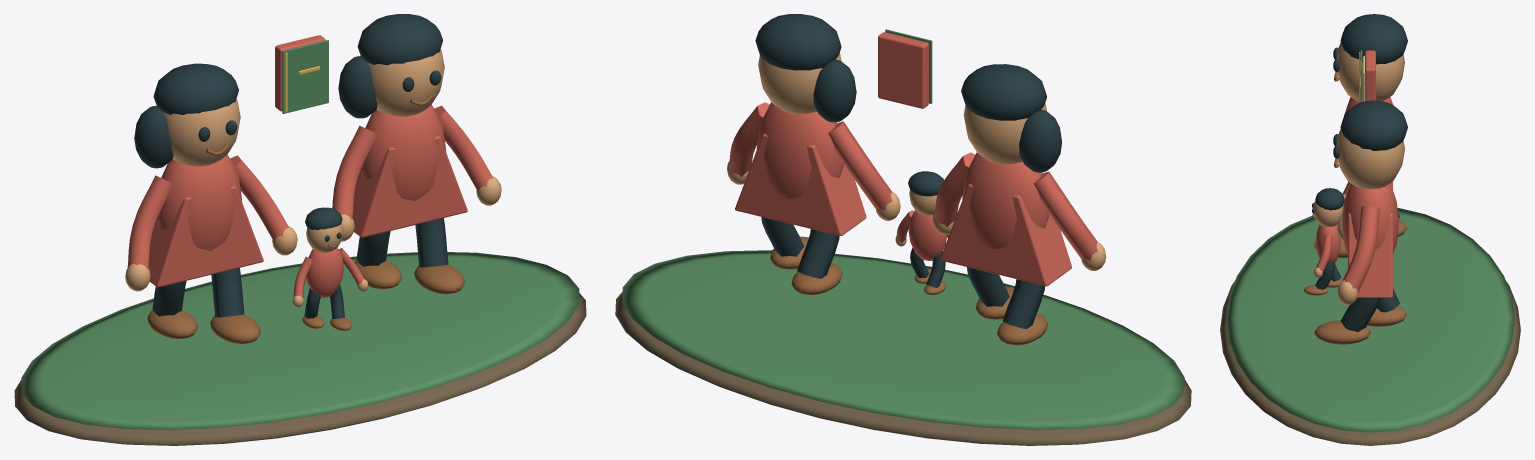
Rendered from older-sisters.glb.
3 views of the same model, side by side, from view 1: azimuth 30°, elevation 25°; view 2: azimuth 150°, elevation 25°; view 3: azimuth 270°, elevation 25° (orthographic). The views are drawn at different scales.
Parts seen in each view (by area): view 1: older-sisters_surface_01, older-sisters_surface_05, older-sisters_surface_03, older-sisters_surface_00, older-sisters_surface_02, older-sisters_surface_04; view 2: older-sisters_surface_01, older-sisters_surface_05, older-sisters_surface_03, older-sisters_surface_00, older-sisters_surface_02, older-sisters_surface_04; view 3: older-sisters_surface_01, older-sisters_surface_03, older-sisters_surface_05, older-sisters_surface_00, older-sisters_surface_02, older-sisters_surface_04.
Part boxes in pixels (x1=…): older-sisters_surface_01: x1=21, y1=40, x2=579, y2=429; older-sisters_surface_05: x1=127, y1=35, x2=493, y2=297; older-sisters_surface_03: x1=134, y1=14, x2=448, y2=318; older-sisters_surface_00: x1=14, y1=293, x2=586, y2=445; older-sisters_surface_02: x1=125, y1=49, x2=501, y2=307; older-sisters_surface_04: x1=147, y1=94, x2=464, y2=343; older-sisters_surface_01: x1=622, y1=29, x2=1184, y2=429; older-sisters_surface_05: x1=729, y1=32, x2=1097, y2=286; older-sisters_surface_03: x1=755, y1=14, x2=1062, y2=328; older-sisters_surface_00: x1=615, y1=292, x2=1191, y2=445; older-sisters_surface_02: x1=727, y1=52, x2=1106, y2=270; older-sisters_surface_04: x1=770, y1=236, x2=1048, y2=345; older-sisters_surface_01: x1=1226, y1=50, x2=1514, y2=432; older-sisters_surface_03: x1=1312, y1=14, x2=1407, y2=332; older-sisters_surface_05: x1=1315, y1=50, x2=1398, y2=297; older-sisters_surface_00: x1=1220, y1=281, x2=1520, y2=445; older-sisters_surface_02: x1=1313, y1=42, x2=1404, y2=305; older-sisters_surface_04: x1=1303, y1=72, x2=1407, y2=344.
Bounding box in the file's own units: 4.56 × 2.61 × 2.5.
